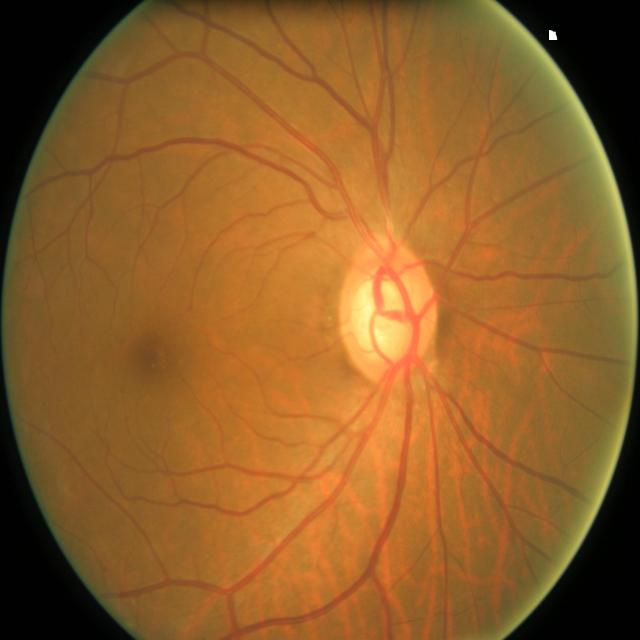OC: (352, 271, 421, 364)
OD: (334, 237, 436, 380)
